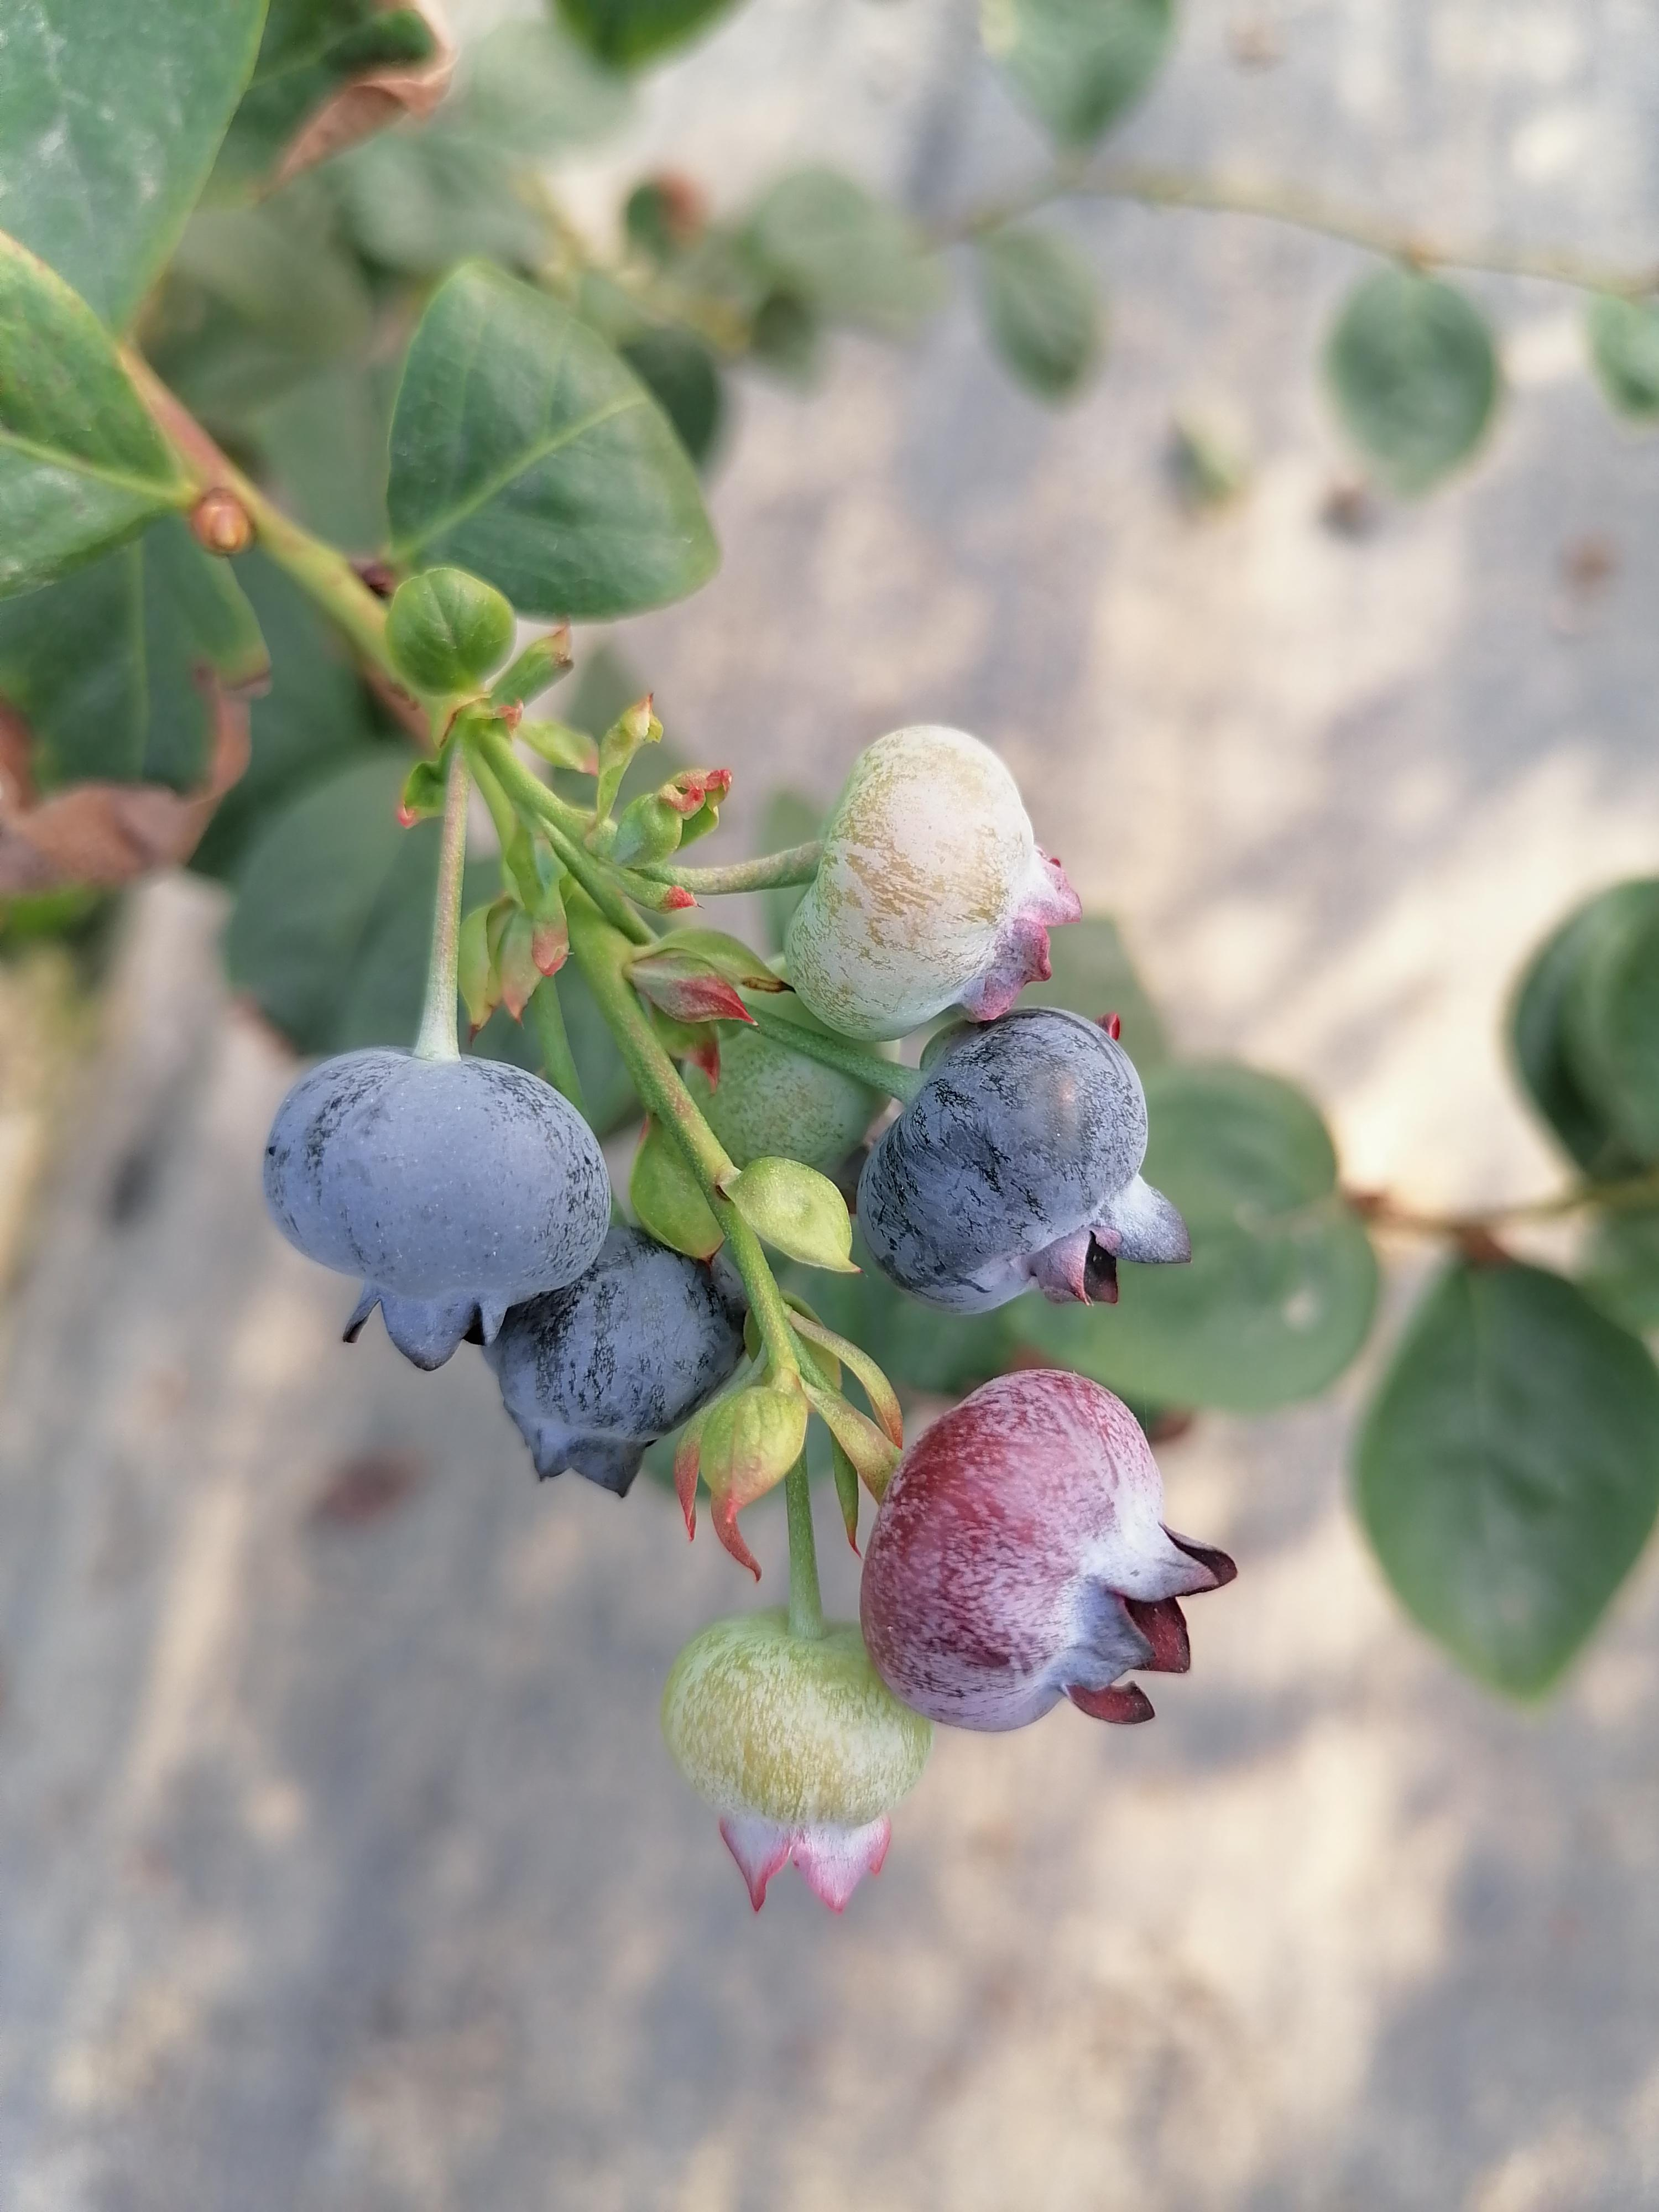ripe-blueberries: (258, 1045, 613, 1379), (850, 1007, 1197, 1318), (488, 1224, 753, 1498)
